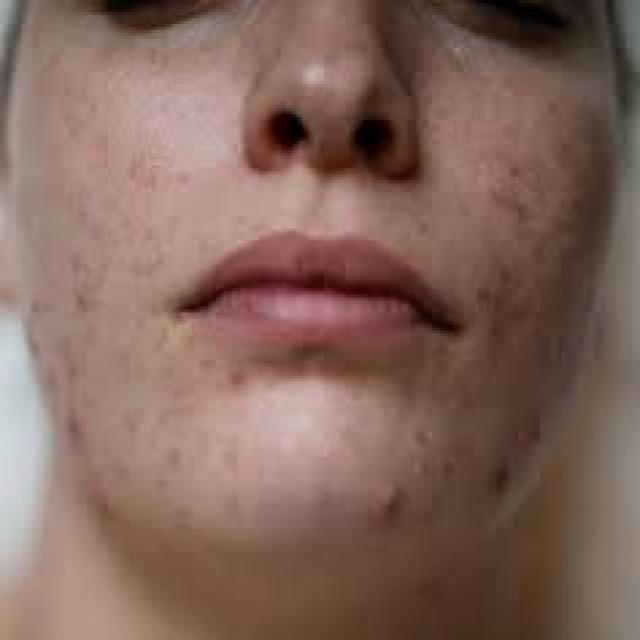Oily-Skin: (24, 100, 540, 527)
